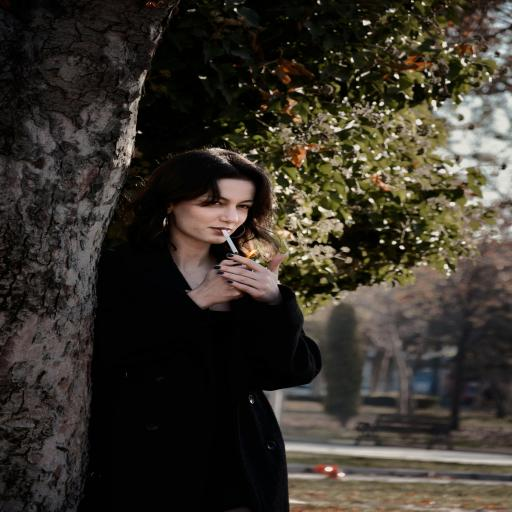terdeteksi merokok: (187, 190, 270, 272)
